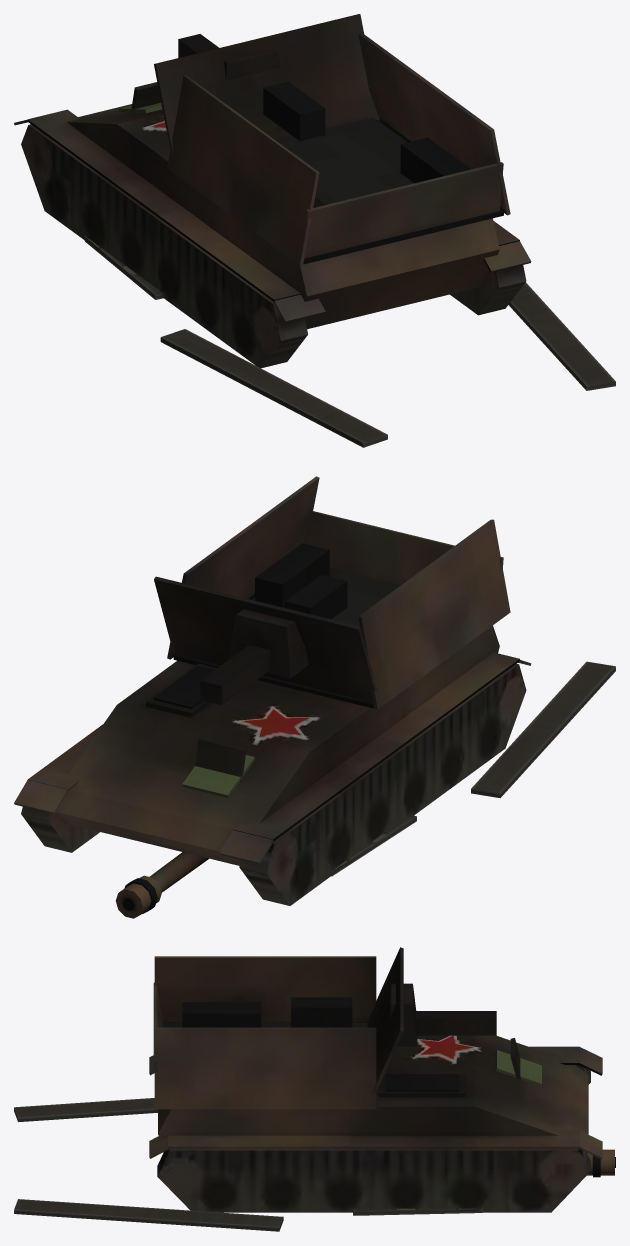
3 views of the same model, one above another, from view 1: azimuth 30°, elevation 25°; view 2: azimuth 150°, elevation 25°; view 3: azimuth 270°, elevation 25° (orthographic). The views are drawn at different scales.
Parts seen in each view (by area): view 1: hull_ko, hull_trackL, hull_trackR; view 2: hull_ko, hull_trackL, gun_ko, hull_ok; view 3: hull_ko, hull_trackR, hull_trackL, hull_ok, gun_ko.
Part boxes in pixels (x1=…): hull_ko: x1=14, y1=14, x2=531, y2=368; hull_trackL: x1=84, y1=236, x2=387, y2=447; hull_trackR: x1=508, y1=282, x2=615, y2=390; hull_ko: x1=14, y1=476, x2=531, y2=905; hull_trackL: x1=331, y1=661, x2=615, y2=876; gun_ko: x1=115, y1=852, x2=208, y2=918; hull_ok: x1=182, y1=755, x2=255, y2=797; hull_ko: x1=149, y1=947, x2=602, y2=1212; hull_trackR: x1=14, y1=1199, x2=482, y2=1231; hull_trackL: x1=14, y1=1098, x2=157, y2=1122; hull_ok: x1=495, y1=1050, x2=541, y2=1086; gun_ko: x1=587, y1=1149, x2=615, y2=1177.
Size of the model in its own units: 3.74 by 2.47 by 6.88.
16 materials, 16 textured.
